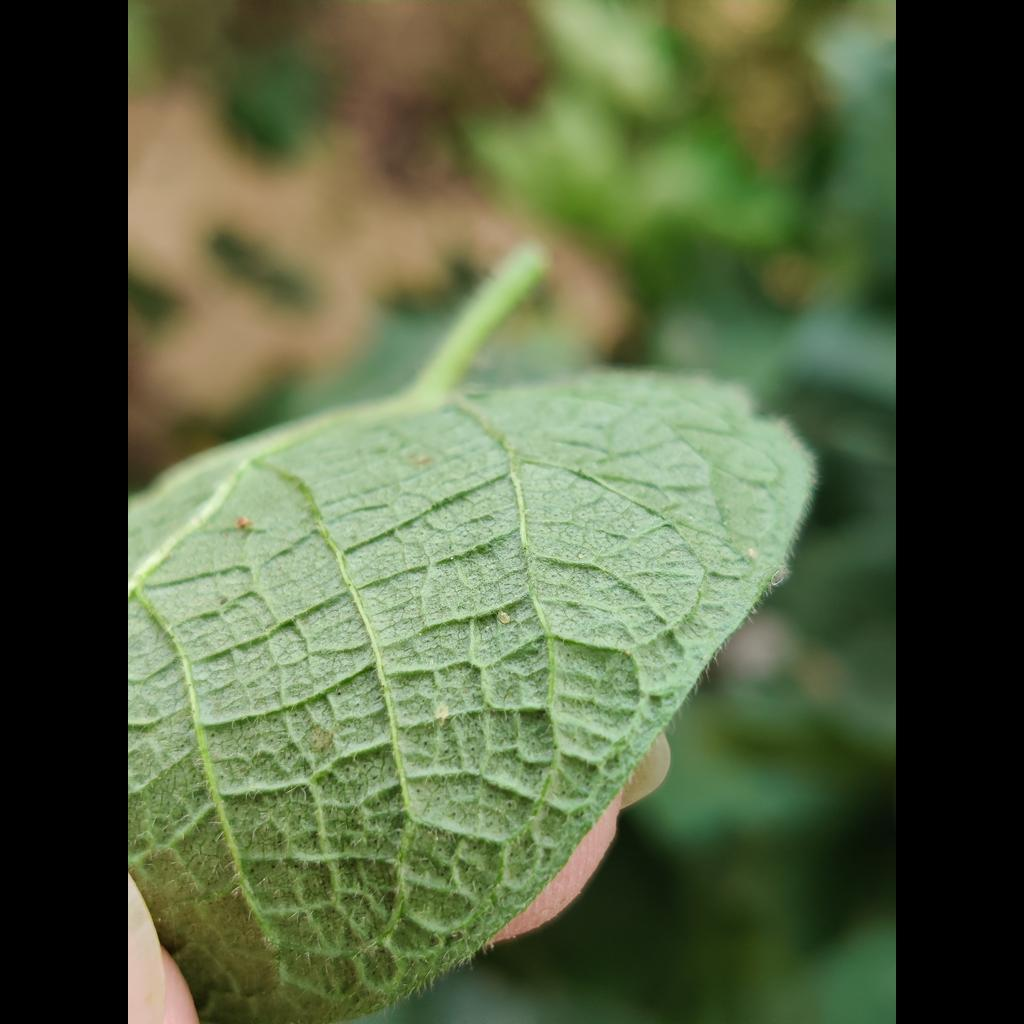nymph: (496, 611, 512, 624)
